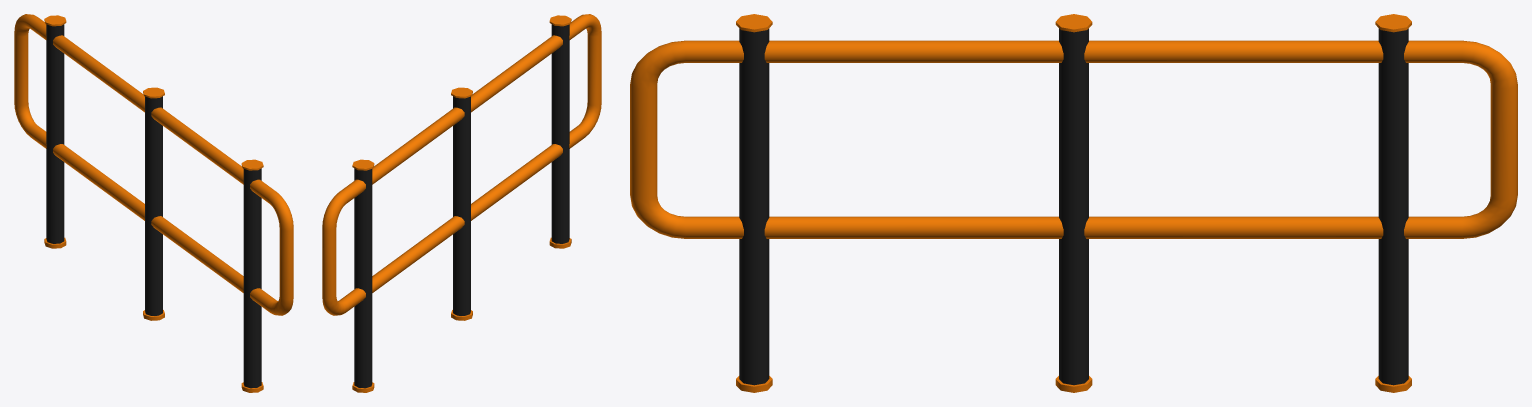
The model's file is Handrailing.fbx.
3 renders of one model, left to right at view 1: azimuth 30°, elevation 25°; view 2: azimuth 150°, elevation 25°; view 3: azimuth 270°, elevation 25°, orthographic. The views are drawn at different scales.
Visible parts, largest first — view 1: Railing; view 2: Railing; view 3: Railing.
Part boxes in pixels (x1,y1,x2,y2): Railing: (14, 14, 293, 392); Railing: (322, 14, 601, 392); Railing: (630, 14, 1517, 392).
Bounding box in the file's own units: 7.87 × 85.68 × 190.
